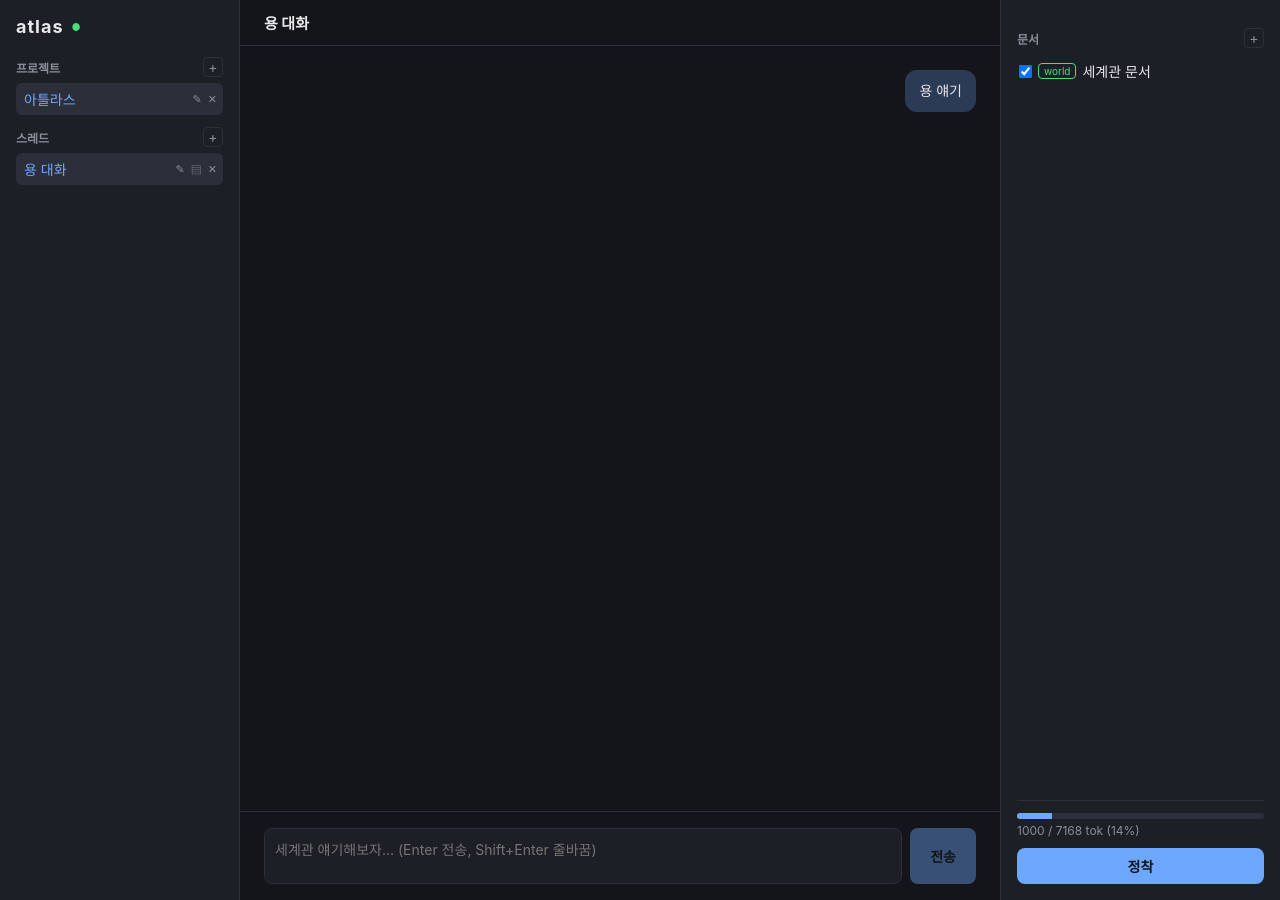
정착 버튼 → 정착 오버레이
Click the button "아틀라스". click: (103, 99)
box: [16, 83, 191, 115]
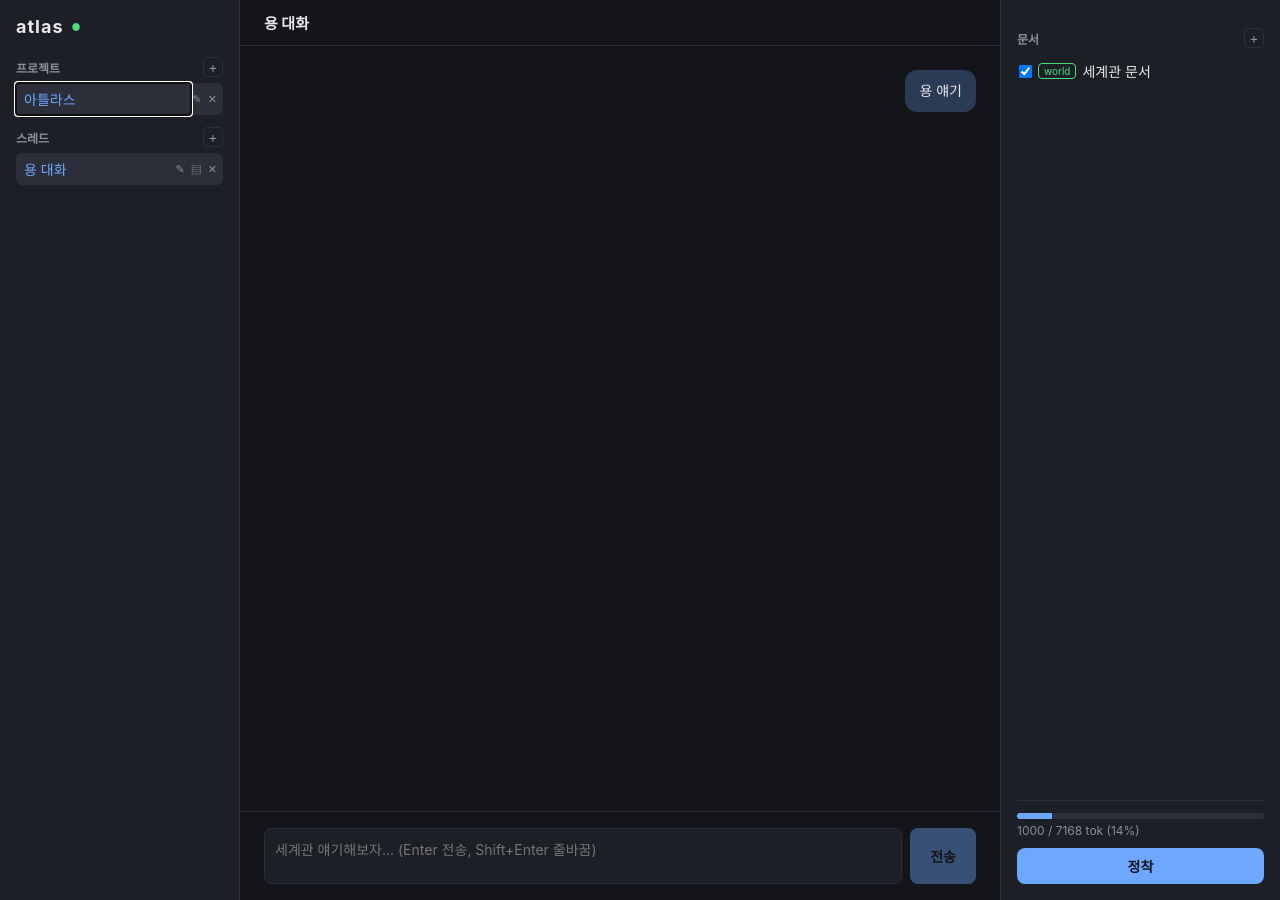
Click the button "용 대화". click: (95, 169)
box: [16, 153, 174, 185]
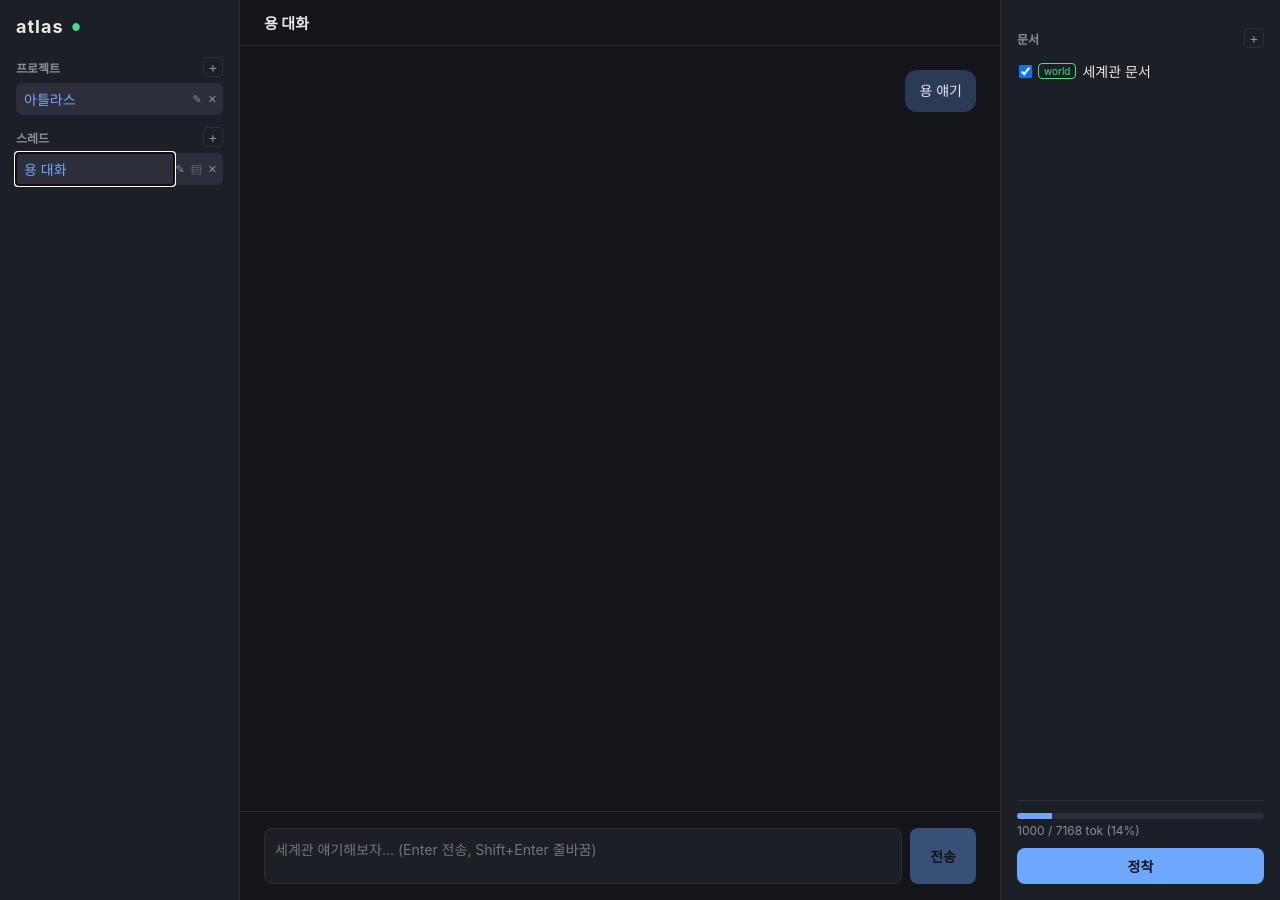
Click the button "정착". click: (1140, 866)
box: [1017, 848, 1264, 884]
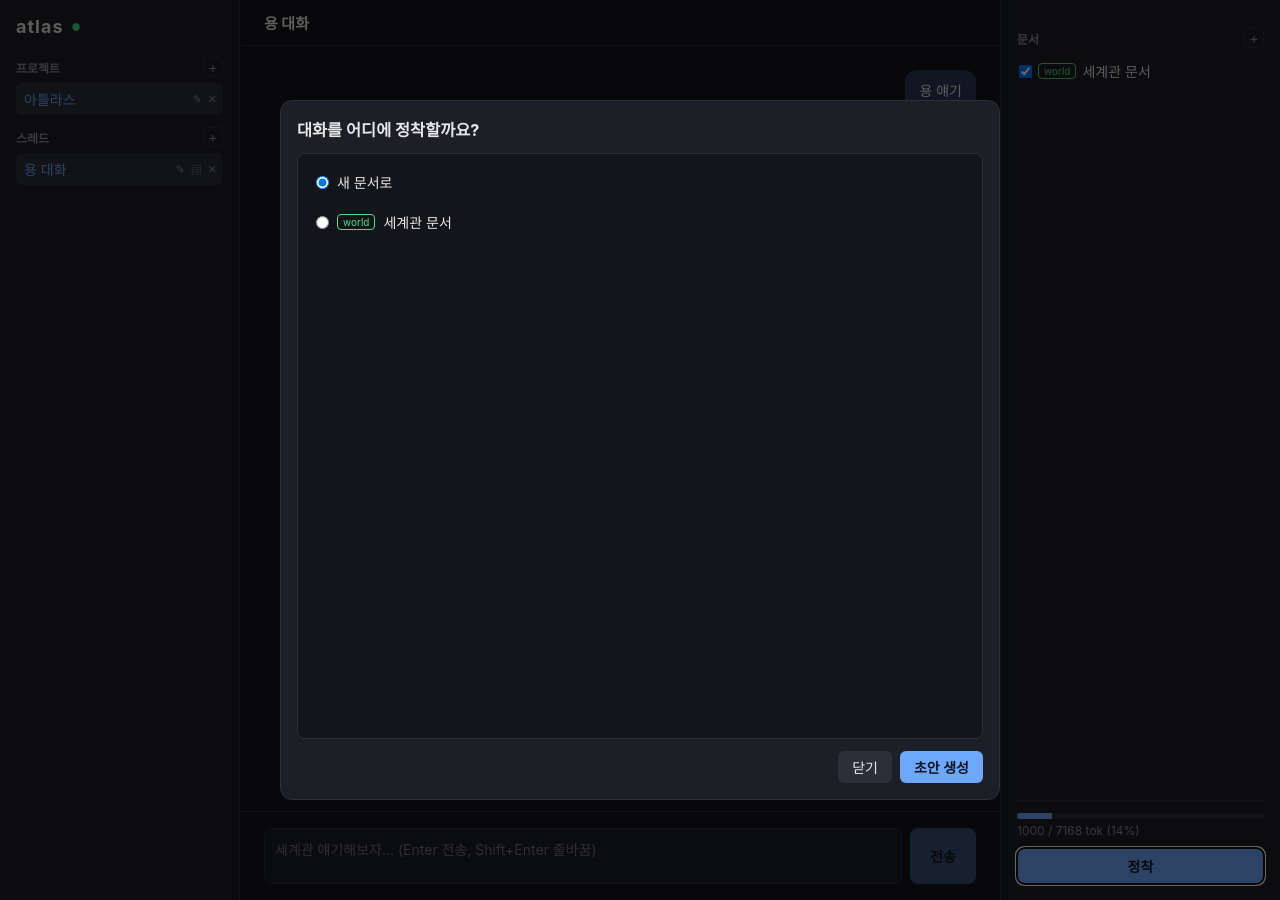
Expected: the dialog "정착" is shown
